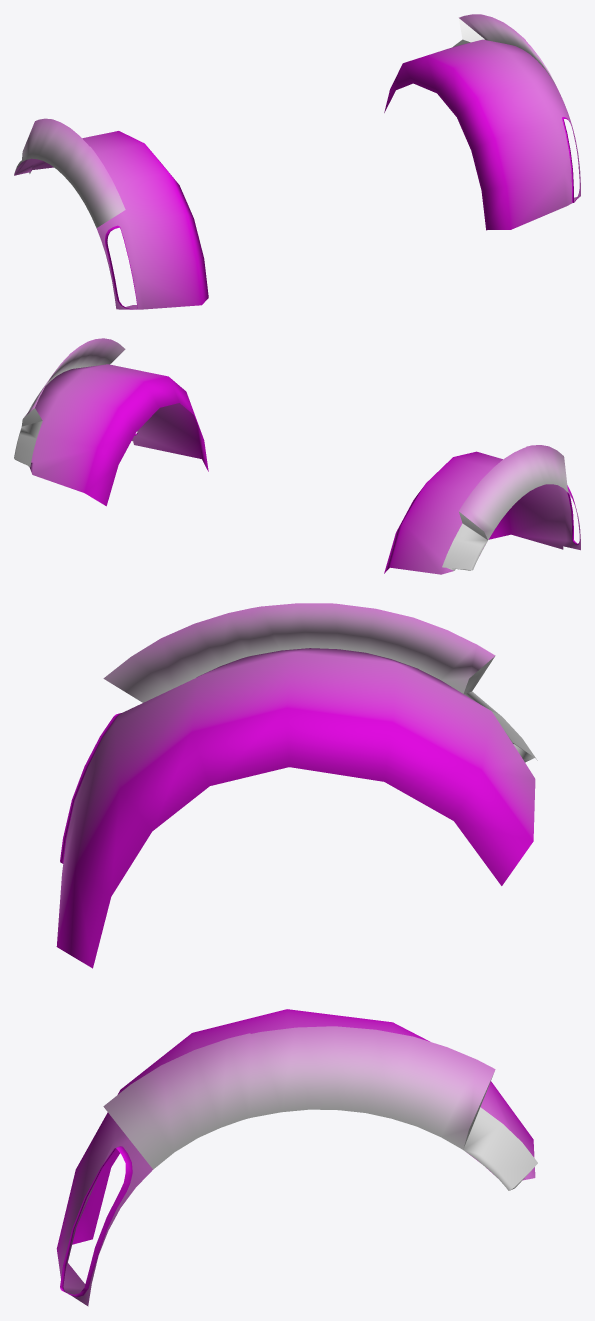
The model's file is Car_Mini_CountrymanJCW_2017_FendersChassisR_SetD.fbx.
3 renders of one model, top to bottom at view 1: azimuth 30°, elevation 25°; view 2: azimuth 150°, elevation 25°; view 3: azimuth 270°, elevation 25°, orthographic. The views are drawn at different scales.
Visible parts, largest first — view 1: FendersChassisR 6; view 2: FendersChassisR 6; view 3: FendersChassisR 6.
Boxes of the visible parts, left/top/right/bottom form: FendersChassisR 6: left=14, top=14, right=580, bottom=309; FendersChassisR 6: left=14, top=338, right=580, bottom=574; FendersChassisR 6: left=56, top=603, right=537, bottom=1306.
Bounding box in the file's own units: 1.9 × 0.5544 × 0.8367.
